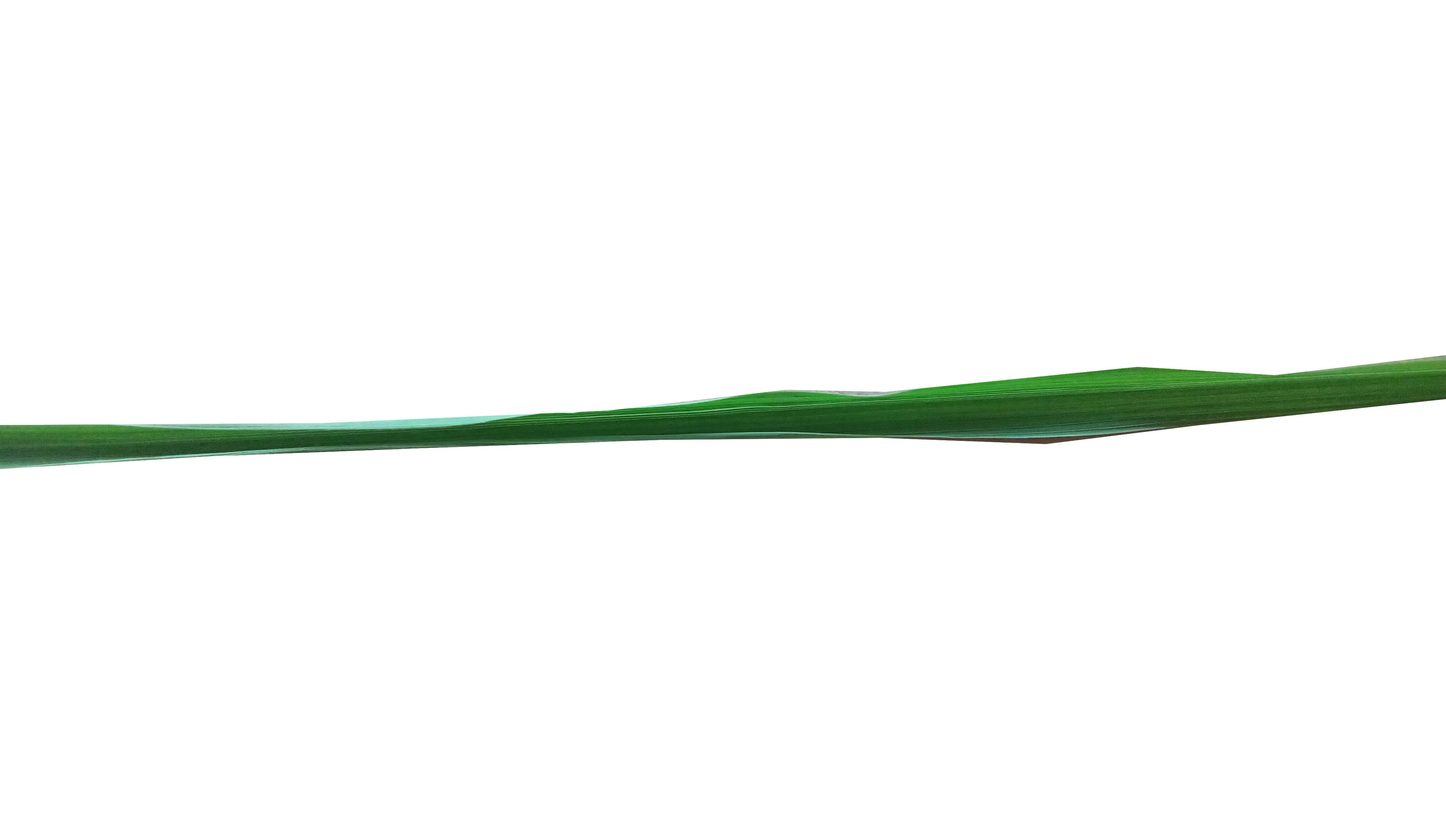Healthy: (0, 356, 1446, 471)
